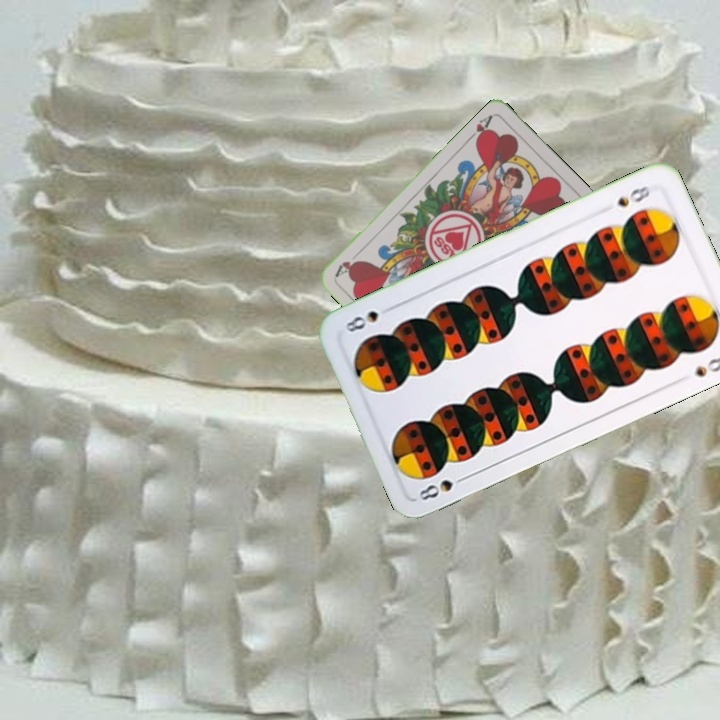HA: (464, 111, 495, 147)
S8: (414, 471, 471, 503), (613, 181, 653, 210)
